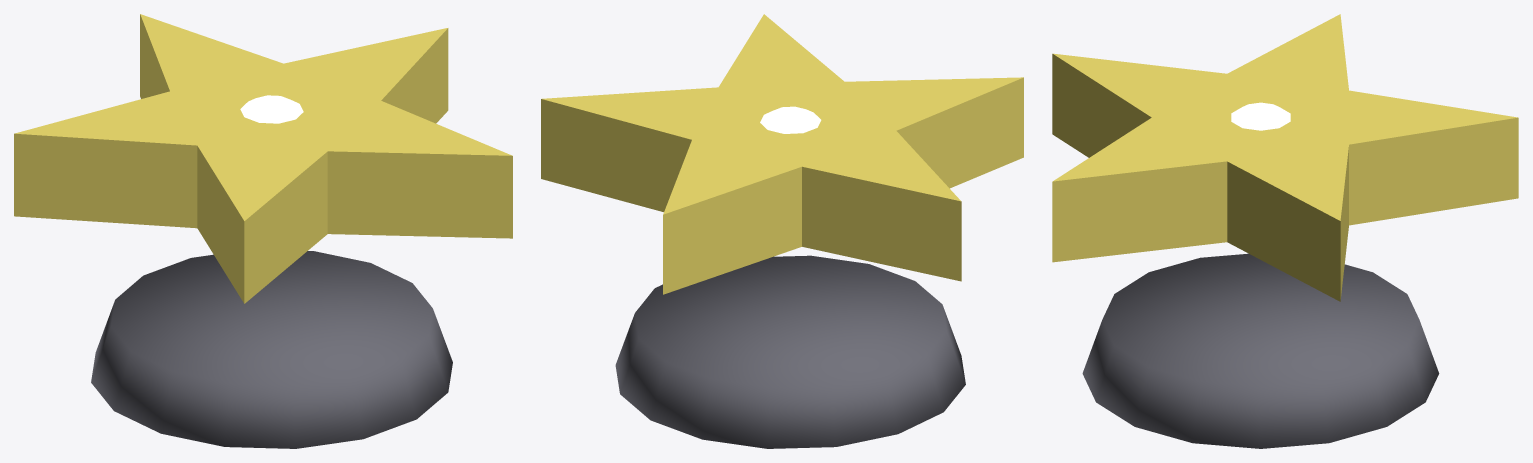
The model's file is 1f559bea-b1c8-439a-a6b7-87e889c65379.glb.
3 views of the same model, side by side, from view 1: azimuth 30°, elevation 25°; view 2: azimuth 150°, elevation 25°; view 3: azimuth 270°, elevation 25° (orthographic). The views are drawn at different scales.
Visible parts, largest first — view 1: Generated3DMesh; view 2: Generated3DMesh; view 3: Generated3DMesh.
Boxes of the visible parts, x1,y1,x2,y2 form: Generated3DMesh: [14, 14, 512, 448]; Generated3DMesh: [541, 14, 1023, 448]; Generated3DMesh: [1052, 14, 1518, 448].
Bounding box in the file's own units: 2.47 × 1.48 × 2.35.
